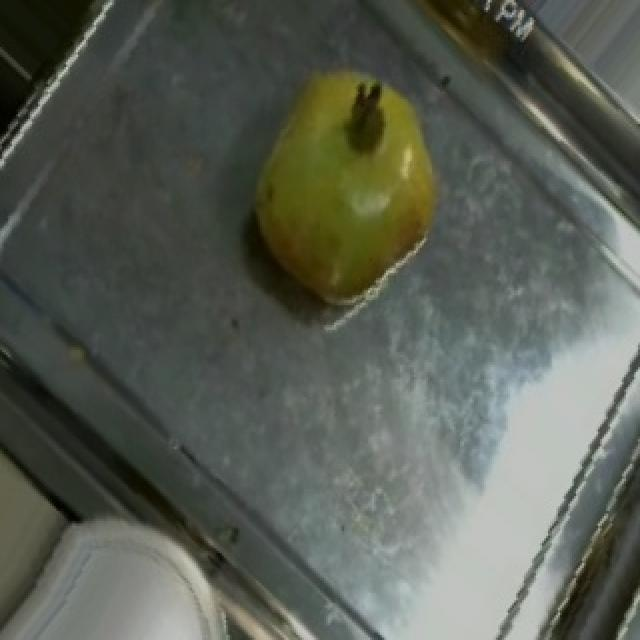fruit: (224, 32, 476, 310)
